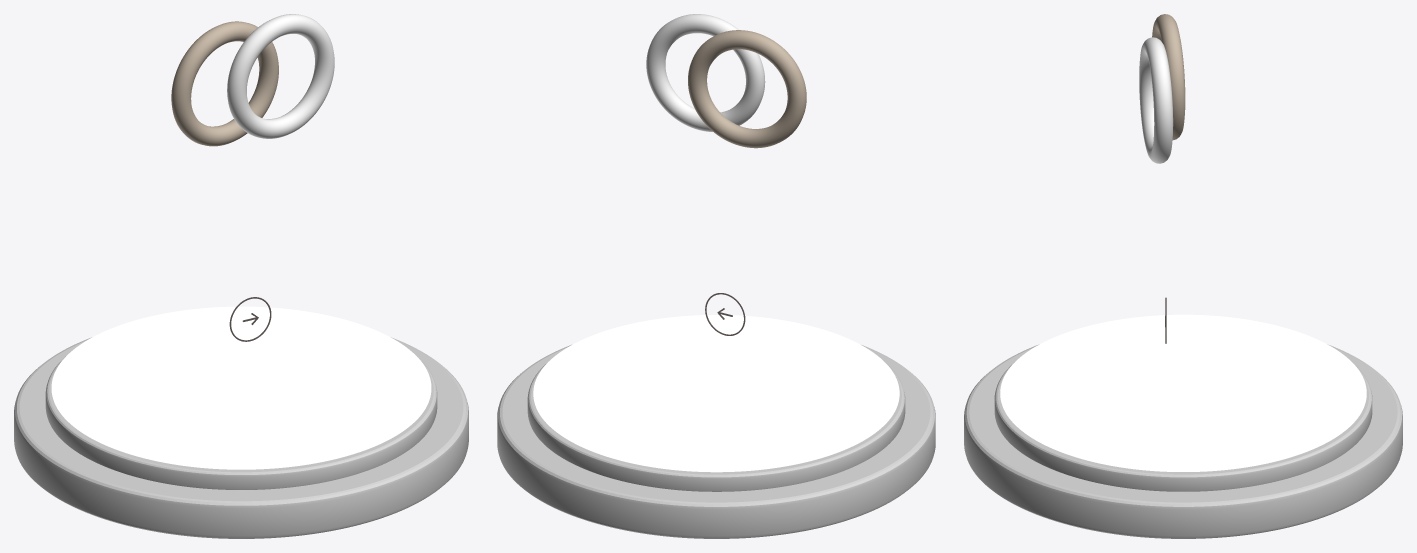
Rendered from crystal-crystal-orbit.glb.
The picture shows the model from 3 angles, left to right: view 1: azimuth 30°, elevation 25°; view 2: azimuth 150°, elevation 25°; view 3: azimuth 270°, elevation 25°; orthographic projection. The views are drawn at different scales.
Parts seen in each view (by area): view 1: Crystal crystal-orbit | concealed warm light seam, Crystal crystal-orbit | lower travertine plinth, Crystal crystal-orbit | upper porcelain plinth, Approvals | interlocking ring 2.002, Approvals | interlocking ring 1.002; view 2: Crystal crystal-orbit | concealed warm light seam, Crystal crystal-orbit | lower travertine plinth, Crystal crystal-orbit | upper porcelain plinth, Approvals | interlocking ring 1.002, Approvals | interlocking ring 2.002; view 3: Crystal crystal-orbit | concealed warm light seam, Crystal crystal-orbit | lower travertine plinth, Crystal crystal-orbit | upper porcelain plinth, Approvals | interlocking ring 2.002, Approvals | interlocking ring 1.002.
Boxes of the visible parts, left/top/right/bottom form: Crystal crystal-orbit | concealed warm light seam: left=51, top=306, right=431, bottom=469; Crystal crystal-orbit | lower travertine plinth: left=14, top=337, right=468, bottom=538; Crystal crystal-orbit | upper porcelain plinth: left=45, top=356, right=437, bottom=489; Approvals | interlocking ring 2.002: left=227, top=14, right=334, bottom=138; Approvals | interlocking ring 1.002: left=171, top=21, right=278, bottom=146; Crystal crystal-orbit | concealed warm light seam: left=533, top=315, right=899, bottom=472; Crystal crystal-orbit | lower travertine plinth: left=497, top=344, right=935, bottom=538; Crystal crystal-orbit | upper porcelain plinth: left=527, top=362, right=905, bottom=491; Approvals | interlocking ring 1.002: left=688, top=30, right=806, bottom=148; Approvals | interlocking ring 2.002: left=646, top=14, right=765, bottom=131; Crystal crystal-orbit | concealed warm light seam: left=1000, top=314, right=1366, bottom=471; Crystal crystal-orbit | lower travertine plinth: left=964, top=344, right=1402, bottom=538; Crystal crystal-orbit | upper porcelain plinth: left=994, top=362, right=1372, bottom=491; Approvals | interlocking ring 2.002: left=1139, top=37, right=1173, bottom=163; Approvals | interlocking ring 1.002: left=1152, top=14, right=1185, bottom=140.
Bounding box in the file's own units: 2.88 × 3.02 × 2.88.
